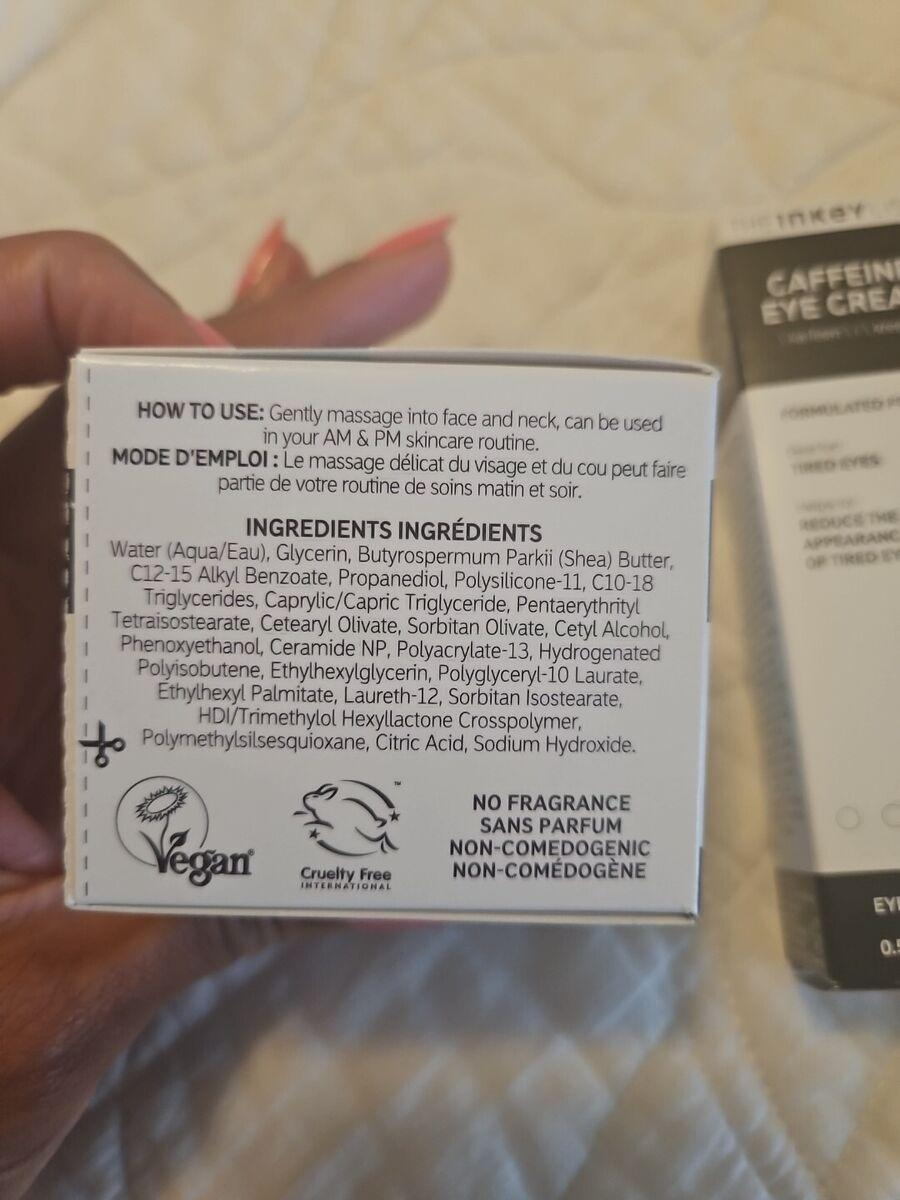ingredients: (96, 508, 698, 766)
